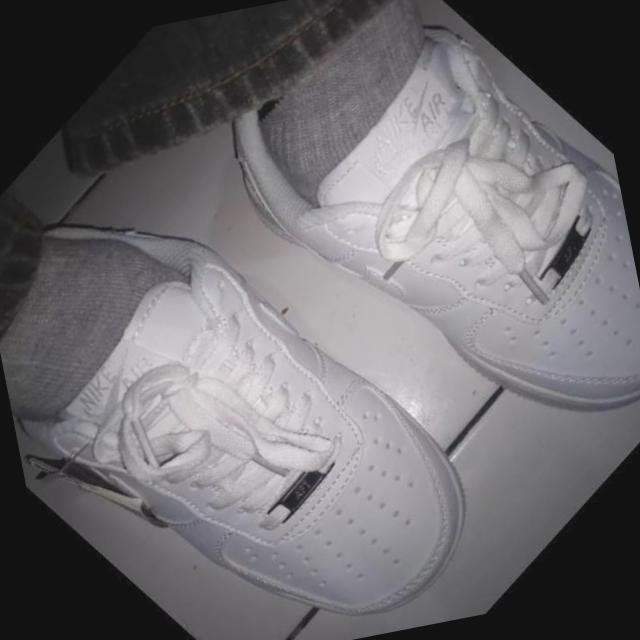nike_fake_airforce: (0, 76, 533, 640), (167, 0, 640, 549)
